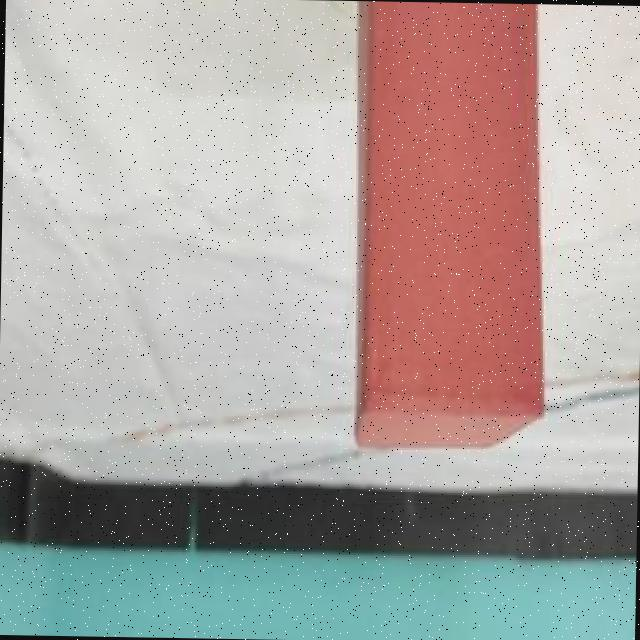redbox: (352, 1, 540, 446)
